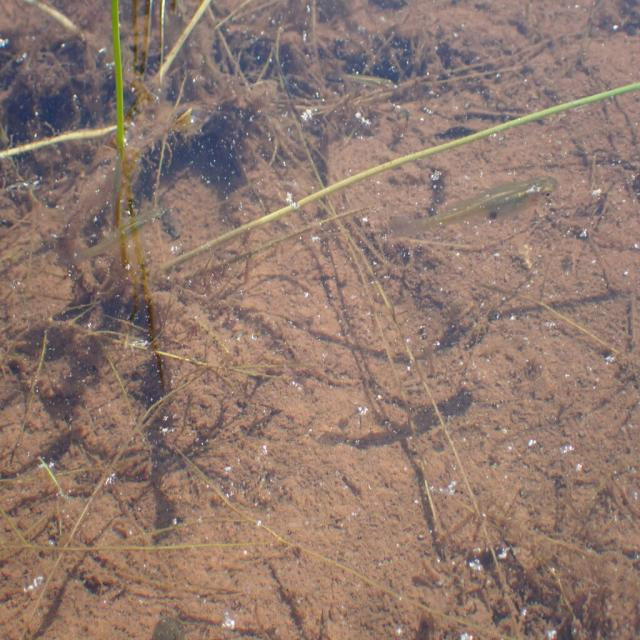Sivrisinek Baligi: (422, 177, 556, 228), (72, 202, 166, 267)
